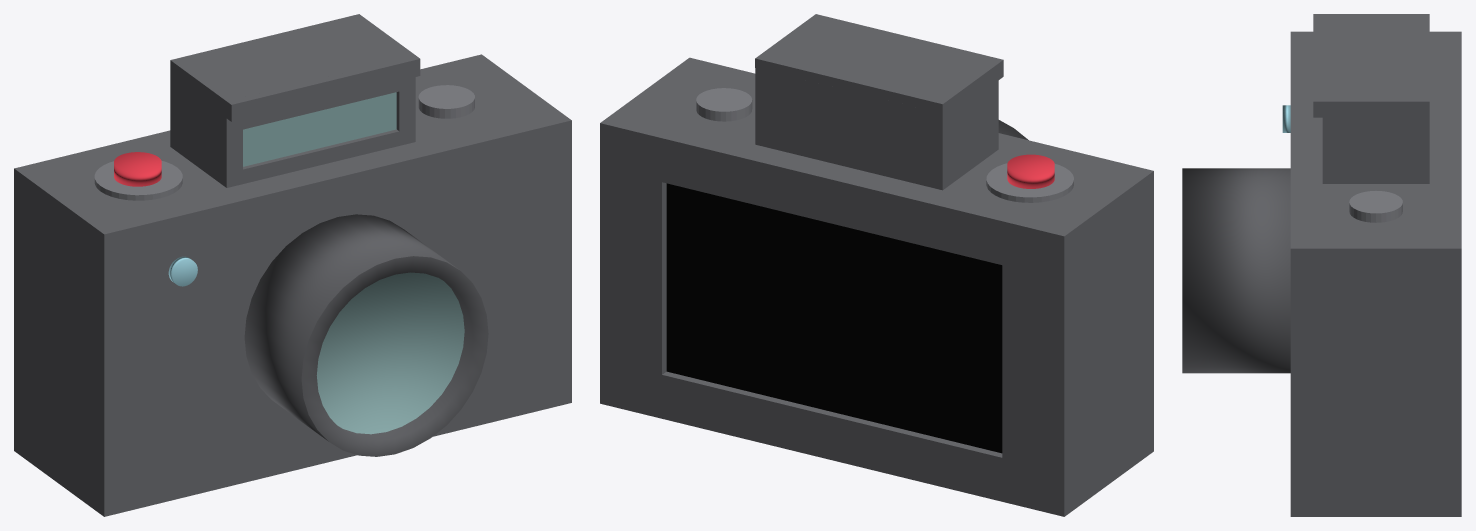
File: camera.glb
3 renders of one model, left to right at view 1: azimuth 30°, elevation 25°; view 2: azimuth 150°, elevation 25°; view 3: azimuth 270°, elevation 25°, orthographic. The views are drawn at different scales.
Visible parts, largest first — view 1: Cube, Cylinder, Cube.001, Cube.002, Cube.003, Cylinder.002, Cylinder.004, Cylinder.003, Cylinder.001; view 2: Cube, Cube.001, Cube.002, Cylinder.002, Cylinder.004, Cylinder.003, Cube.003; view 3: Cube, Cylinder, Cube.002, Cube.001, Cylinder.004, Cube.003.
Part boxes in pixels (x1,y1,x2,y2): Cube: [14, 54, 571, 516]; Cylinder: [244, 214, 488, 456]; Cube.001: [170, 70, 415, 187]; Cube.002: [170, 14, 415, 110]; Cube.003: [226, 55, 420, 121]; Cylinder.002: [94, 161, 182, 200]; Cylinder.004: [418, 85, 474, 118]; Cylinder.003: [114, 152, 161, 186]; Cylinder.001: [168, 256, 197, 286]; Cube: [600, 57, 1153, 516]; Cube.001: [755, 68, 998, 190]; Cube.002: [755, 17, 998, 113]; Cylinder.002: [986, 163, 1073, 202]; Cylinder.004: [696, 88, 752, 121]; Cylinder.003: [1007, 154, 1054, 188]; Cube.003: [811, 14, 1003, 80]; Cube: [1290, 31, 1461, 516]; Cylinder: [1182, 168, 1290, 373]; Cube.002: [1322, 14, 1429, 110]; Cube.001: [1322, 110, 1429, 183]; Cylinder.004: [1349, 191, 1402, 222]; Cube.003: [1313, 14, 1323, 117].
Bounding box in the file's own units: 3.46 × 2.61 × 1.89.
